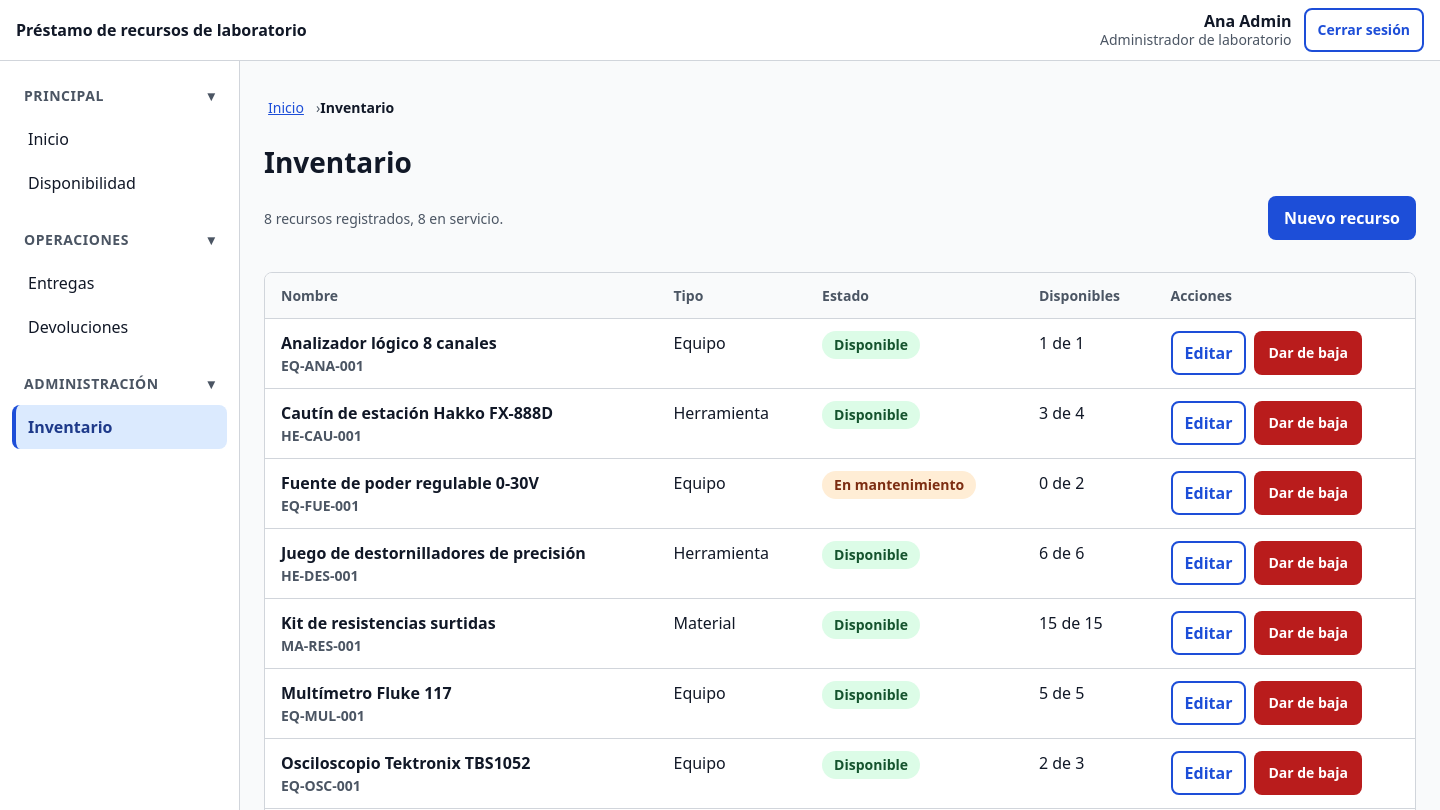
Test case: pantalla de inventario › dar de baja (Req 4.9, 4.10) › al confirmar, el recurso queda "Dado de baja", sin acciones, y se avisa
The width and height of the screenshot is (1440, 810).
Click the button with aria-label "Dar de baja Kit de resistencias surtidas" at (1308,633), box [1254,611,1362,655]
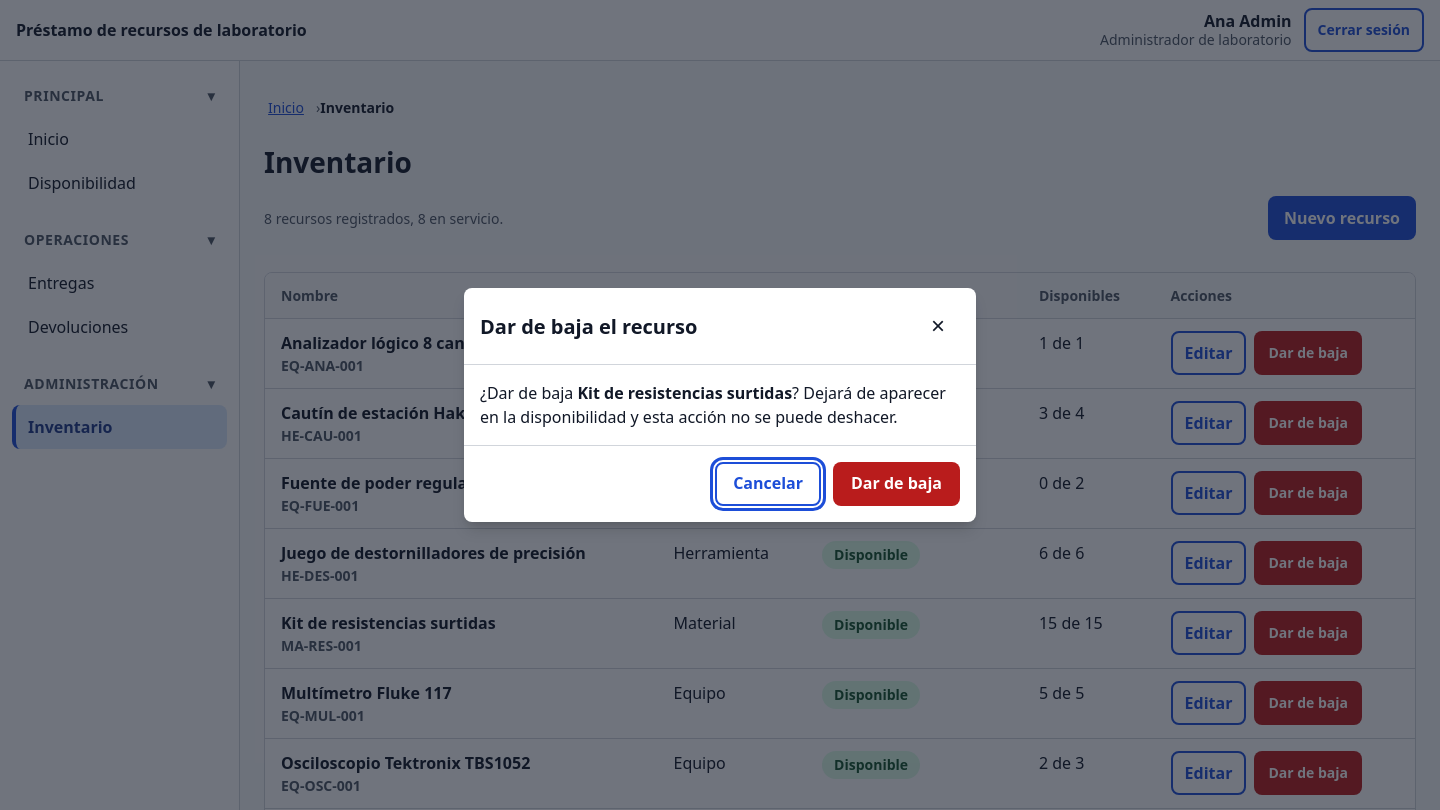
Click the button "Dar de baja" at (896,484), box [833,462,960,506]
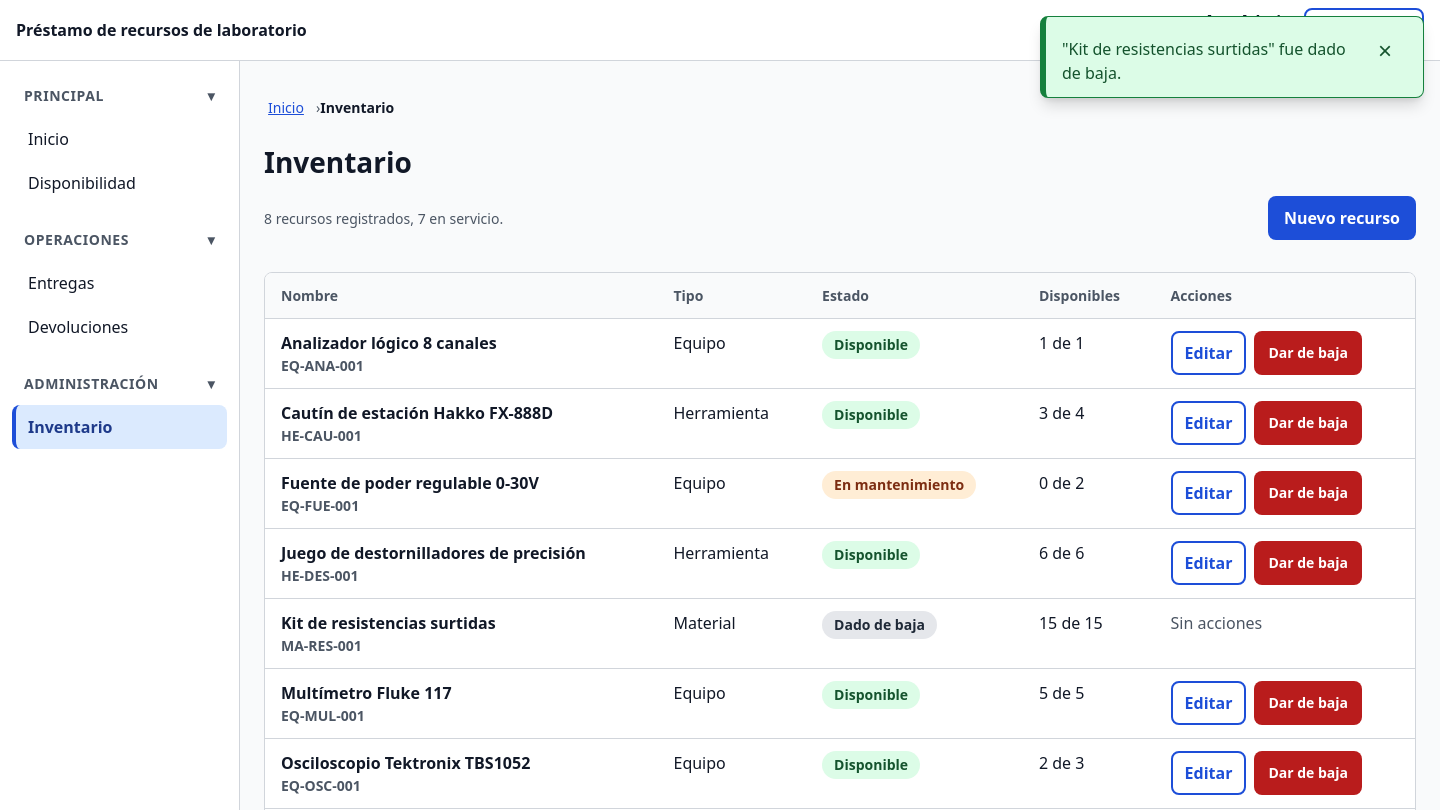
Result: the text "\"Kit de resistencias surtidas\" fue dado de baja." is shown at [1062,29,1351,85]
Result: the text "Dado de baja" is shown at [822,611,937,639]
Result: the text "Sin acciones" is shown at [1171,612,1262,634]
